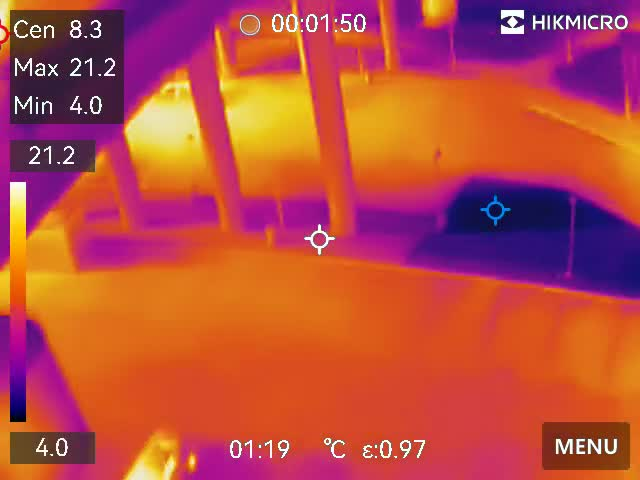vehicle: (123, 421, 193, 480)
